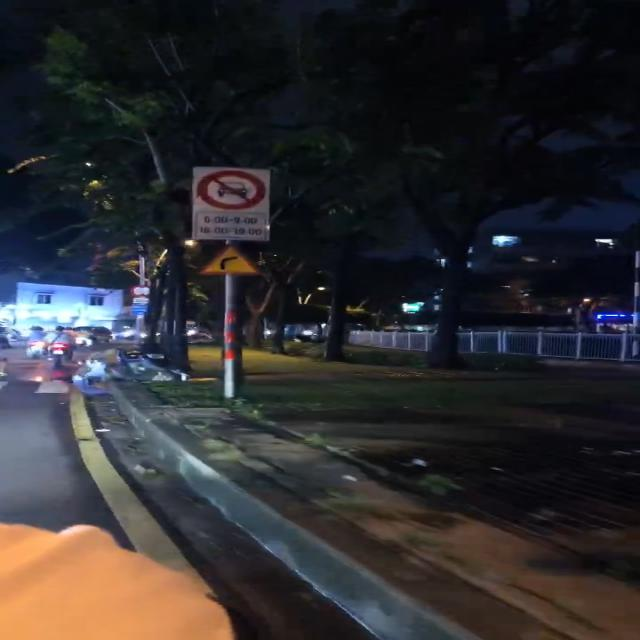Bien bao cam xe oto: (189, 167, 275, 211)
Bien bao cho ngoat nguy hiem: (194, 240, 263, 276)
